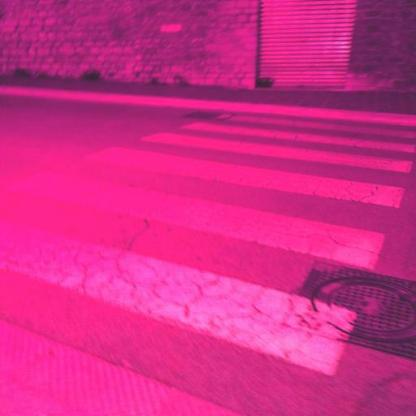crosswalk: (2, 144, 410, 274)
